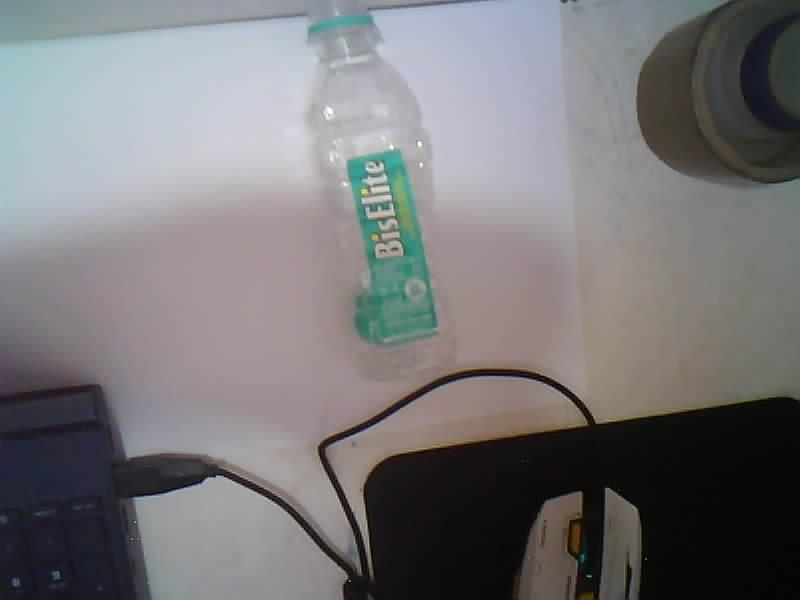non-biodegradable: (308, 0, 451, 377)
